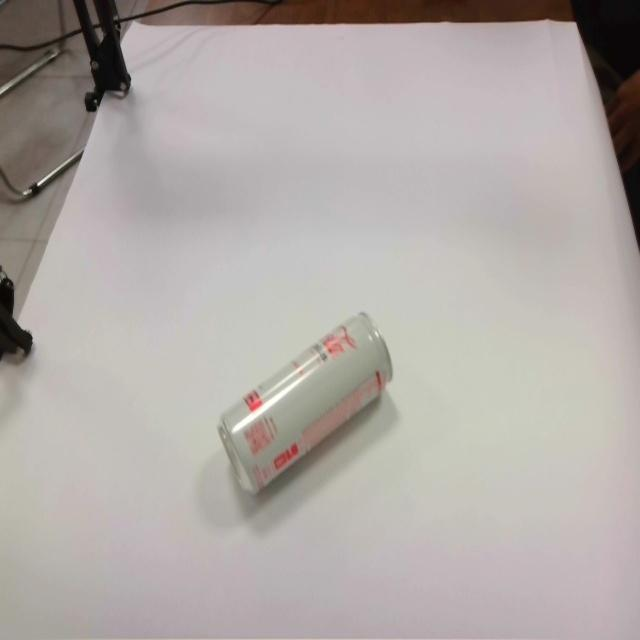debris: (216, 310, 394, 497)
